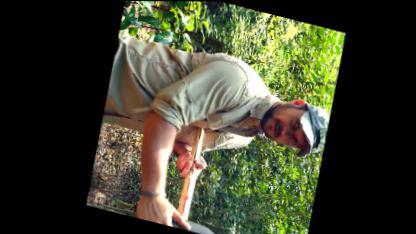knife: (144, 203, 223, 233)
